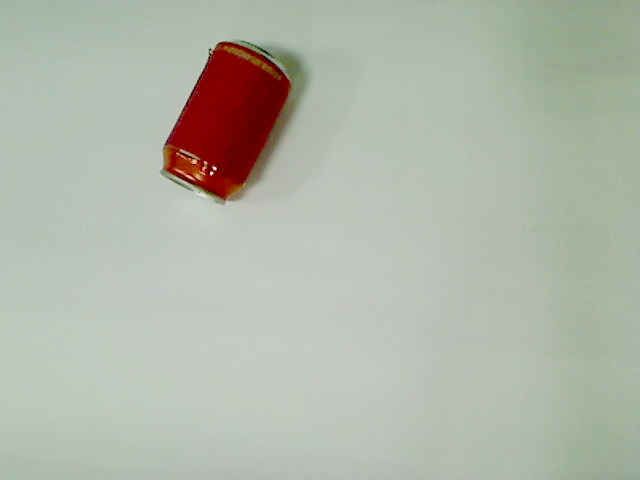can: (157, 41, 297, 208)
